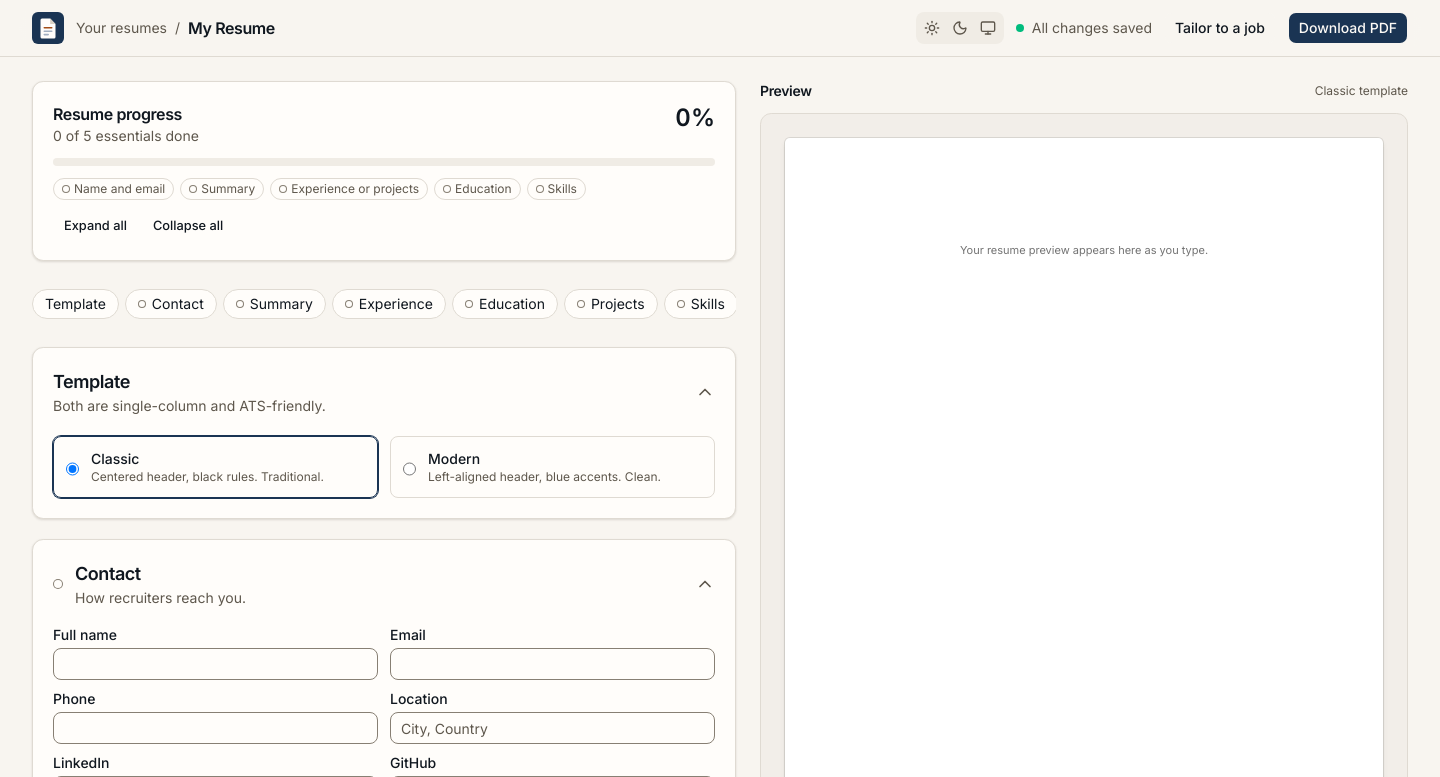
Test: unsupported PDF characters › warns and blocks the download when text can't be rendered in the PDF
The image size is (1440, 777).
Type "आशा राव" into the field labelled "Full name". click: (216,664)
box: [53,648,378,680]
Wait 1000 ms
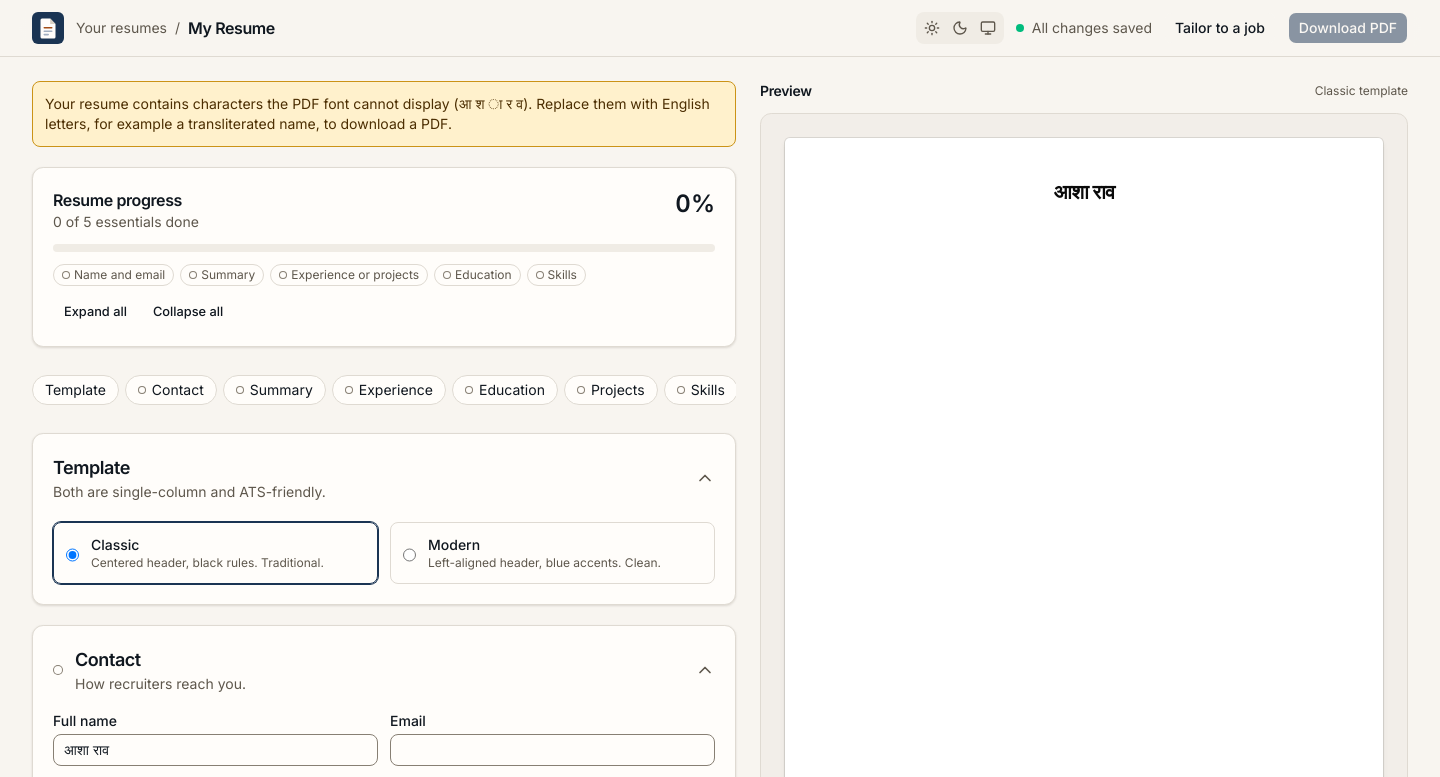
Expected: the text "All changes saved" is shown, [1032,18,1152,38]
Expected: the message with test id "unsupported-chars" shows "आ", [45,95,710,132]
Expected: the message with test id "unsupported-chars" shows "PDF font cannot display", [45,95,710,132]
